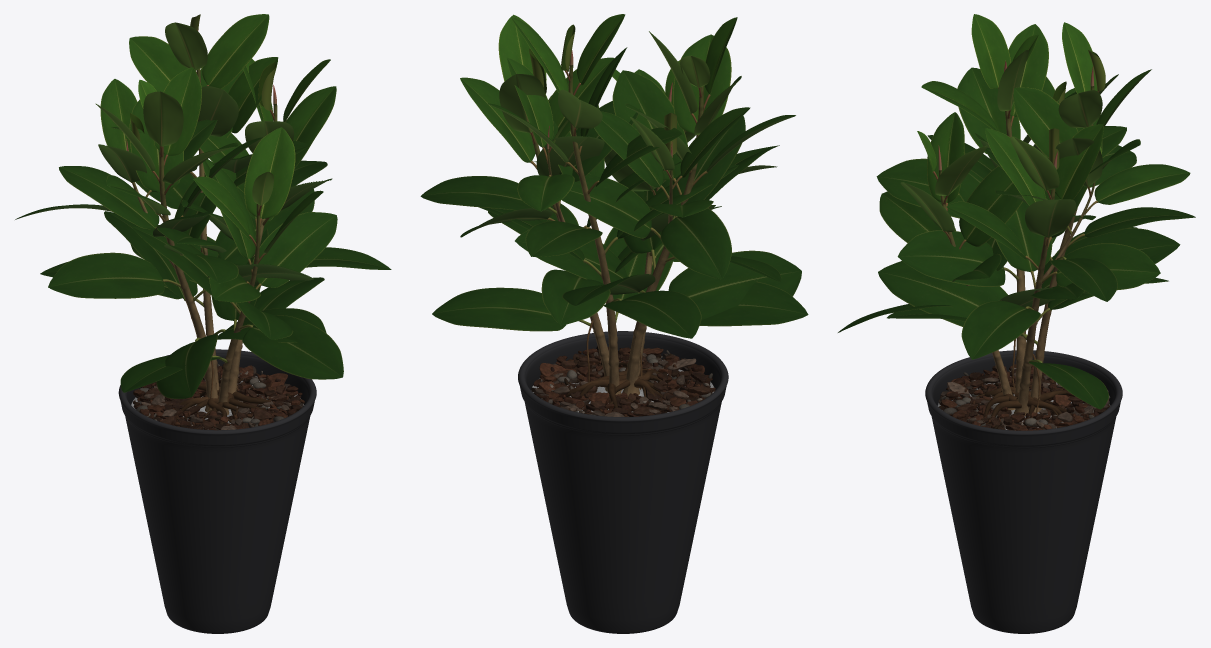
File: vaso-ficus.glb
3 views of the same model, side by side, from view 1: azimuth 30°, elevation 25°; view 2: azimuth 150°, elevation 25°; view 3: azimuth 270°, elevation 25° (orthographic). The views are drawn at different scales.
Parts seen in each view (by area): view 1: Folhas, Vaso, FolhasVerso, CascaPinus, Caules, Raizes, Peciolos, CascaPinusFina; view 2: Folhas, Vaso, FolhasVerso, CascaPinus, Caules, Raizes, Peciolos, CascaPinusFina; view 3: Folhas, Vaso, FolhasVerso, CascaPinus, Caules, Raizes, Peciolos, CascaPinusFina.
Boxes of the visible parts, x1,y1,x2,y2 form: Folhas: [15, 14, 391, 398]; Vaso: [118, 349, 316, 633]; FolhasVerso: [15, 14, 330, 392]; CascaPinus: [133, 365, 303, 430]; Caules: [133, 69, 277, 415]; Raizes: [179, 378, 274, 424]; Peciolos: [131, 71, 274, 362]; CascaPinusFina: [132, 364, 304, 429]; Folhas: [420, 14, 808, 338]; Vaso: [518, 331, 728, 633]; FolhasVerso: [461, 31, 794, 325]; CascaPinus: [531, 346, 715, 416]; Caules: [532, 65, 703, 397]; Raizes: [566, 361, 669, 409]; Peciolos: [530, 70, 710, 327]; CascaPinusFina: [537, 348, 712, 416]; Folhas: [838, 14, 1195, 409]; Vaso: [925, 350, 1122, 633]; FolhasVerso: [838, 50, 1150, 359]; CascaPinus: [938, 364, 1109, 430]; Caules: [938, 86, 1095, 415]; Raizes: [976, 382, 1072, 424]; Peciolos: [933, 87, 1098, 363]; CascaPinusFina: [940, 365, 1099, 430].
Size of the model in its own units: 0.6911 by 1.25 by 0.7007.
11 materials, 8 textured.
